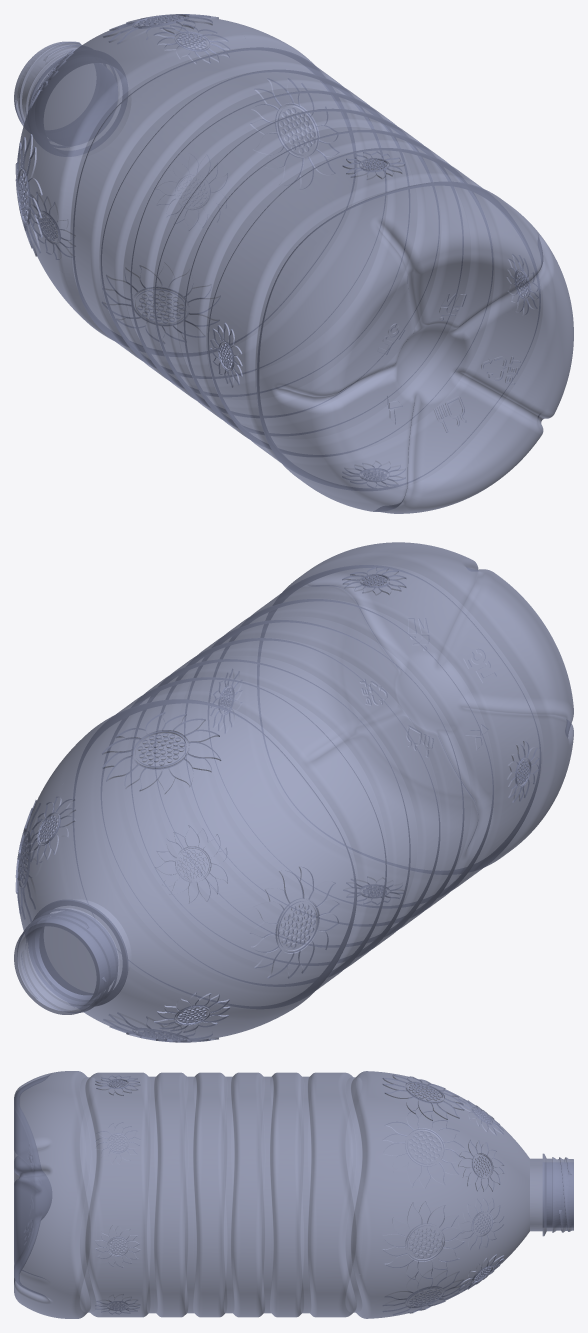
The model's file is bottle_bbc60236960d.glb.
3 views of the same model, one above another, from view 1: azimuth 30°, elevation 25°; view 2: azimuth 150°, elevation 25°; view 3: azimuth 270°, elevation 25° (orthographic). The views are drawn at different scales.
Visible parts, largest first — view 1: Object_5, Object_6, Object_4, Object_3, Object_2, Object_7; view 2: Object_5, Object_6, Object_4, Object_3, Object_2, Object_7; view 3: Object_5, Object_6, Object_4, Object_3, Object_2, Object_7.
Part boxes in pixels (x1,y1,x2,y2): Object_5: (14,17,530,473); Object_6: (19,31,573,512); Object_4: (39,25,573,513); Object_3: (15,14,337,342); Object_2: (18,108,537,487); Object_7: (31,155,227,258); Object_5: (14,587,548,1040); Object_6: (18,543,573,1040); Object_4: (28,542,573,1022); Object_3: (15,712,339,1042); Object_2: (19,566,539,1039); Object_7: (154,856,230,1032); Object_5: (18,1071,573,1318); Object_6: (14,1071,526,1318); Object_4: (14,1071,504,1318); Object_3: (382,1074,491,1313); Object_2: (95,1075,441,1313); Object_7: (458,1115,503,1291).
Size of the model in its own units: 155 by 155 by 350.
